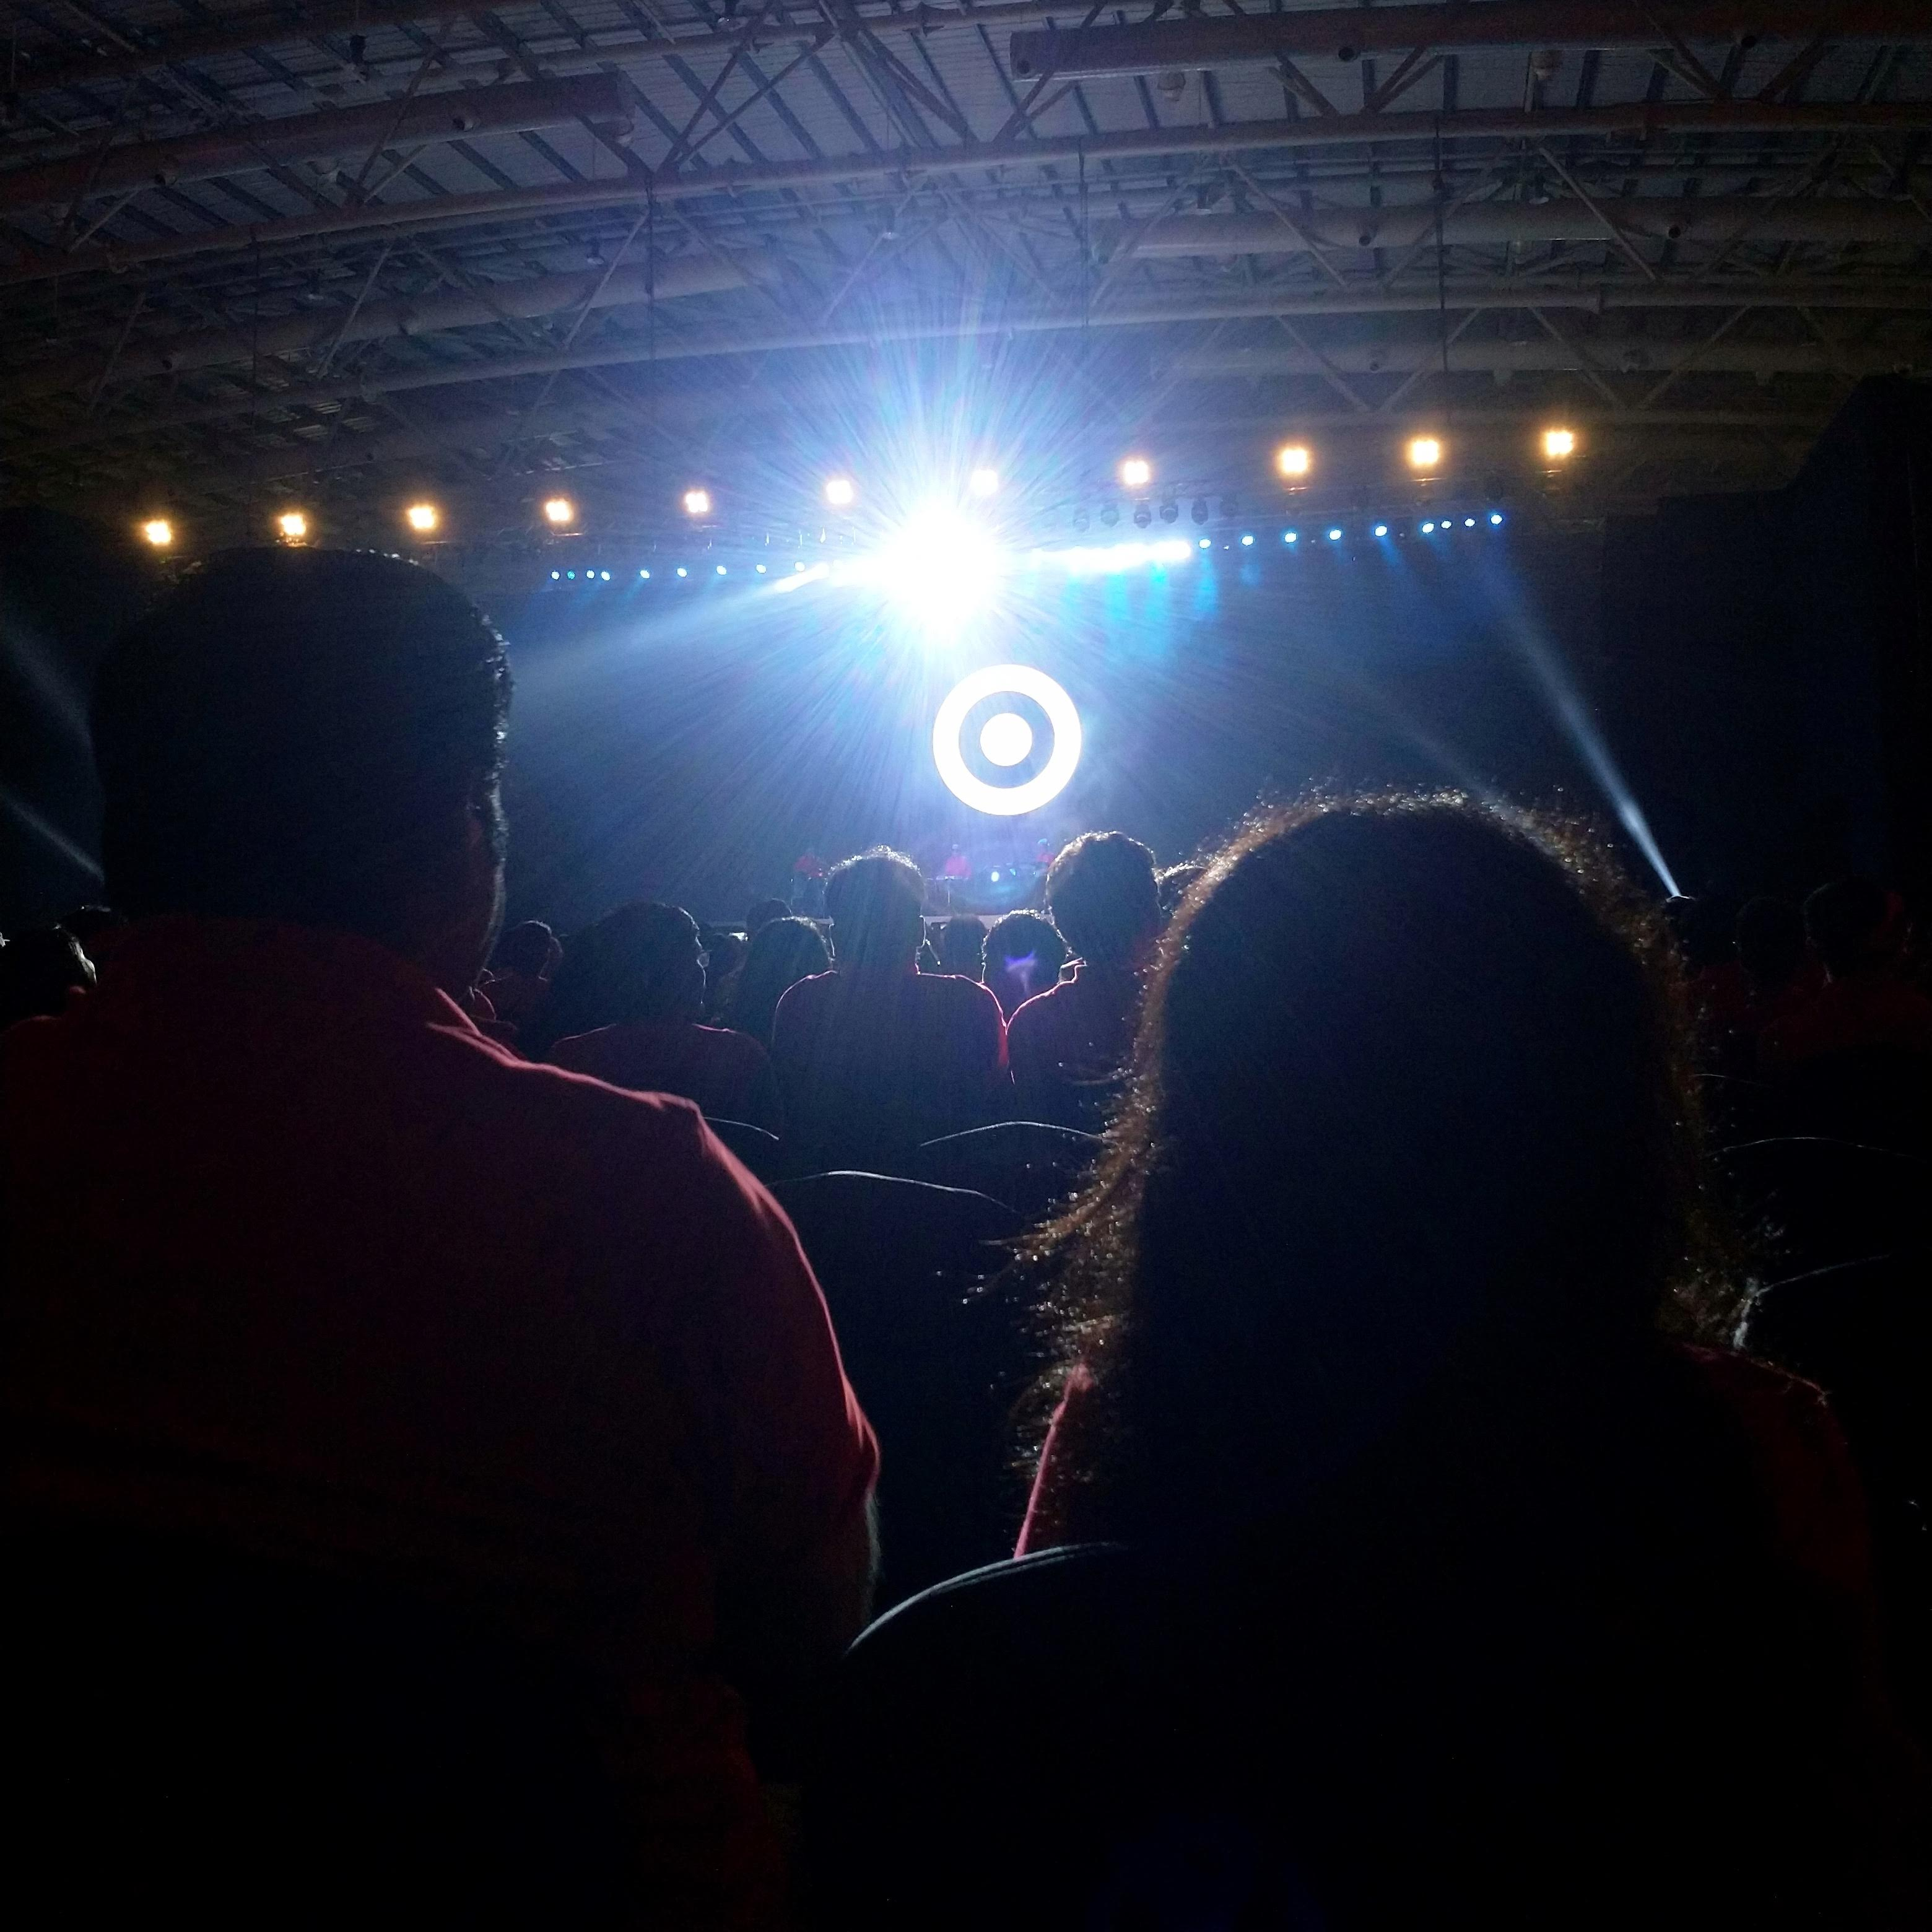bullseye: (916, 646, 1109, 828)
